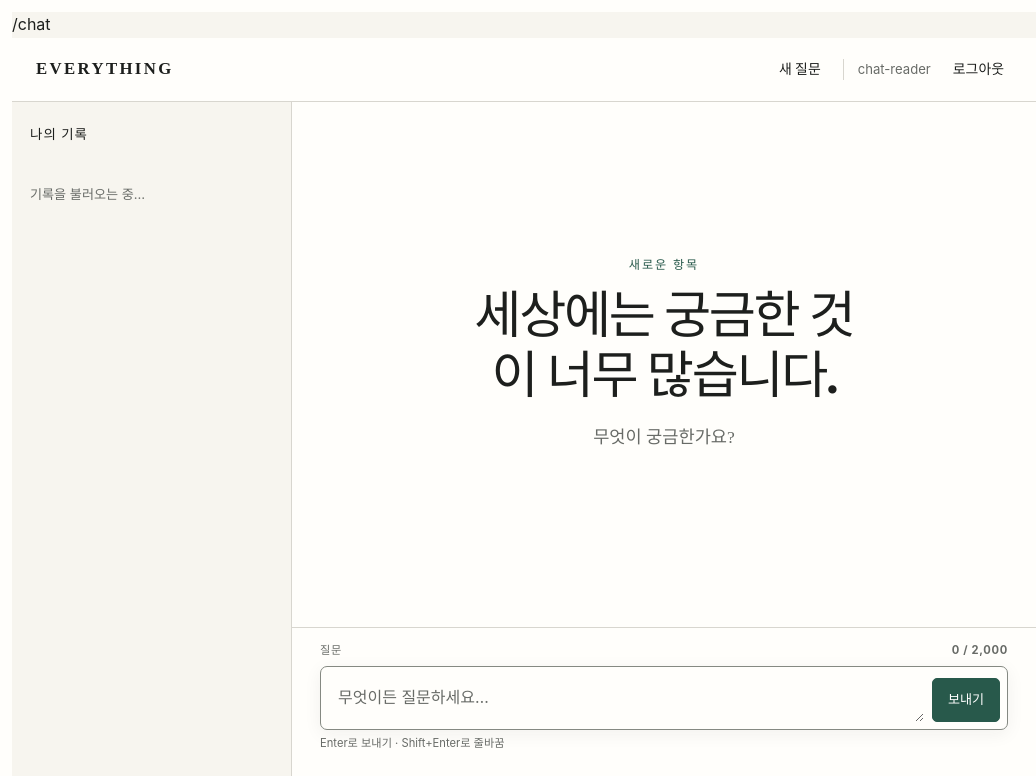
Test: ChatPage › keeps the first question and answer while moving to the new session URL
Note: 사용자가 첫 질문을 입력한다.
Type "새 대화 질문" into the text box labelled "질문". click: (626, 698)
box: [328,674,924,722]
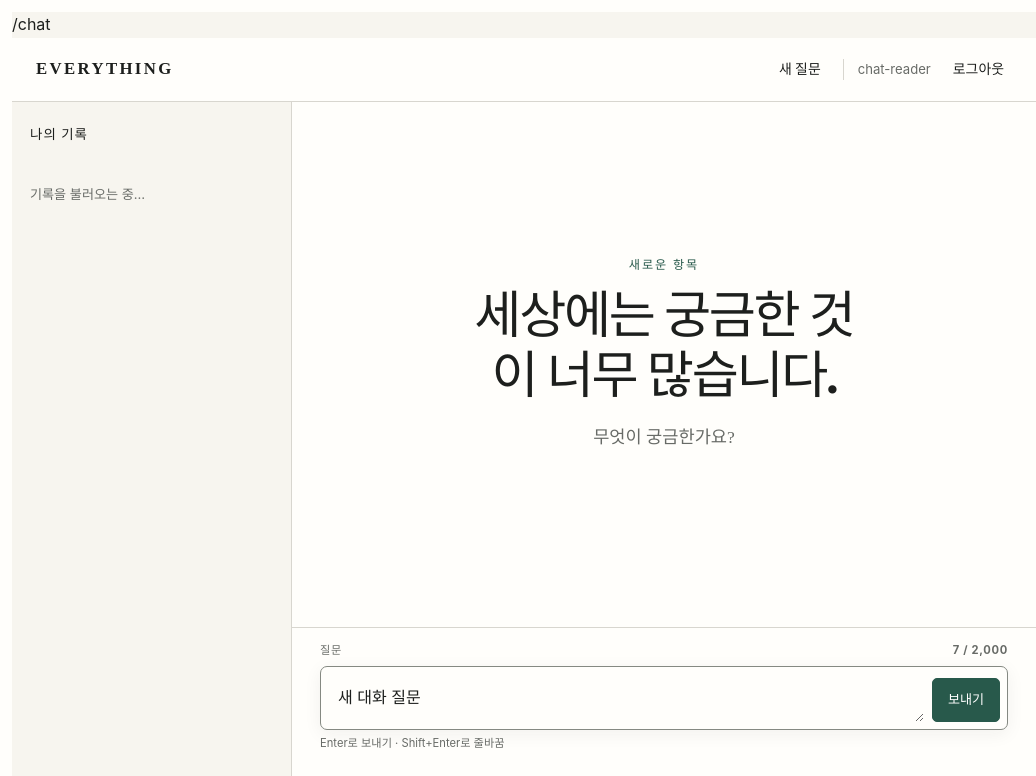
Note: 명시적인 전송 버튼으로 질문을 한 번 보낸다.
Click the button with aria-label "질문 보내기". click: (966, 700)
box: [932,678,1000,722]
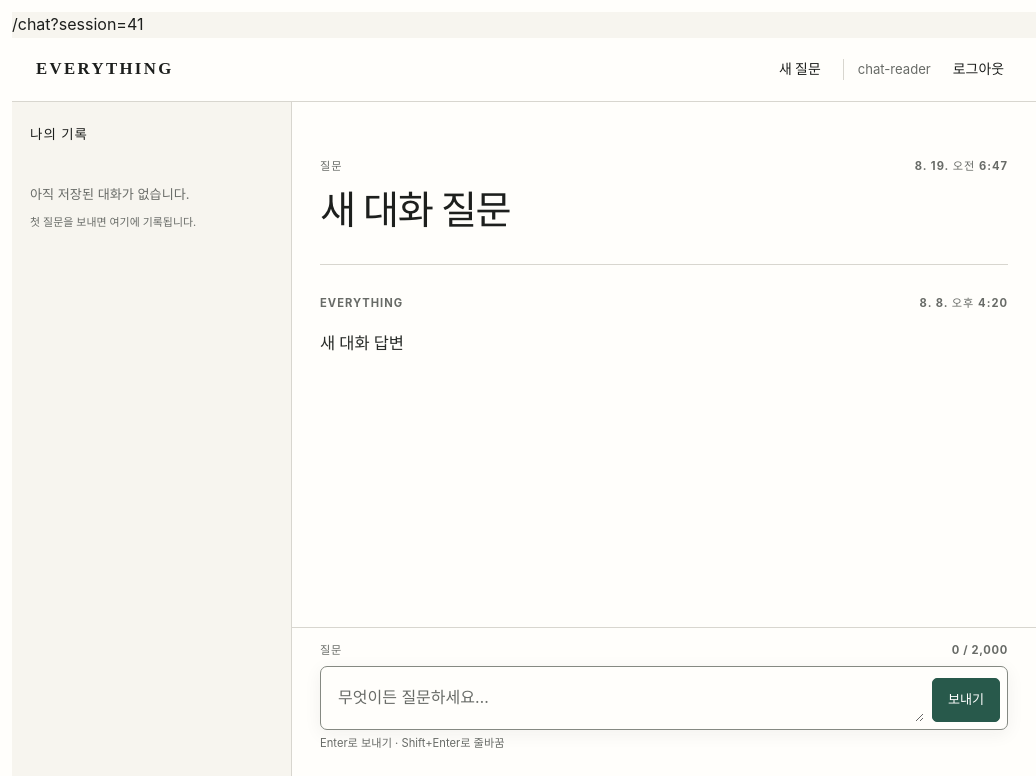
Expected: the text with test id "current-location" reads "/chat?session=41", [12,14,144,34]
Expected: the heading "새 대화 질문" is shown, [320,188,510,232]
Expected: the text "새 대화 답변" is shown, [320,334,404,353]
